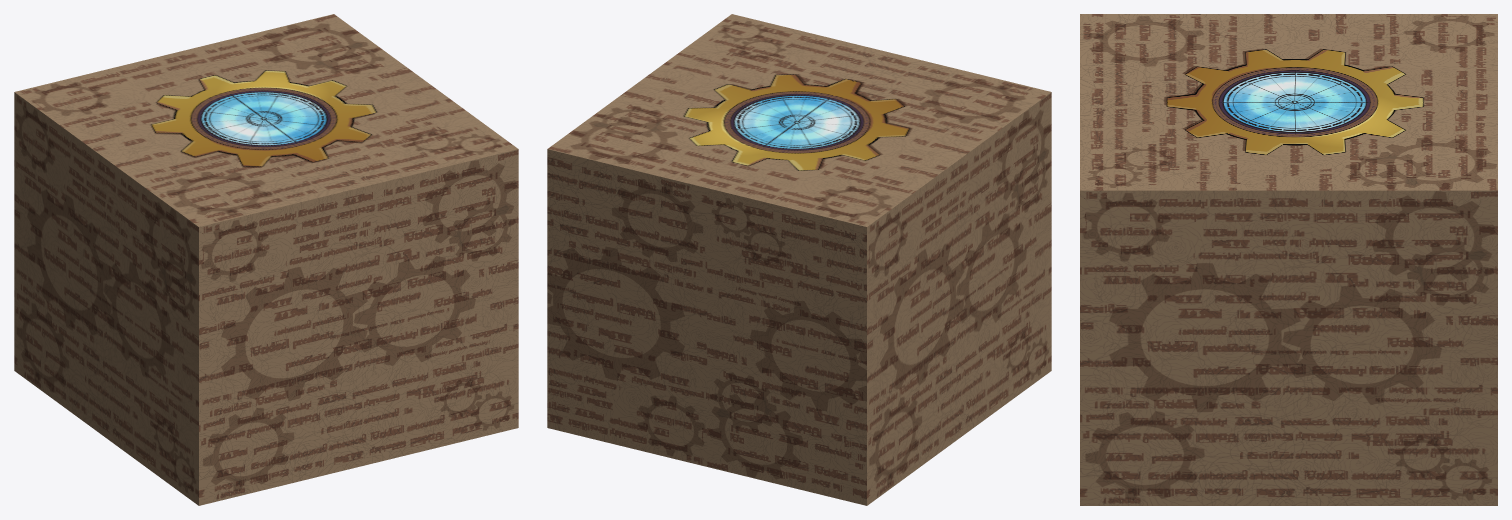
The model's file is Wall 4x4 wall window.fbx.
3 renders of one model, left to right at view 1: azimuth 30°, elevation 25°; view 2: azimuth 150°, elevation 25°; view 3: azimuth 270°, elevation 25°, orthographic. The views are drawn at different scales.
Visible parts, largest first — view 1: Cube_2; view 2: Cube_2; view 3: Cube_2.
Boxes of the visible parts, x1,y1,x2,y2 form: Cube_2: (14,14,518,505); Cube_2: (547,14,1051,505); Cube_2: (1080,14,1497,505).
Size of the model in its own units: 600 by 500 by 600.
2 materials, 2 textured.
